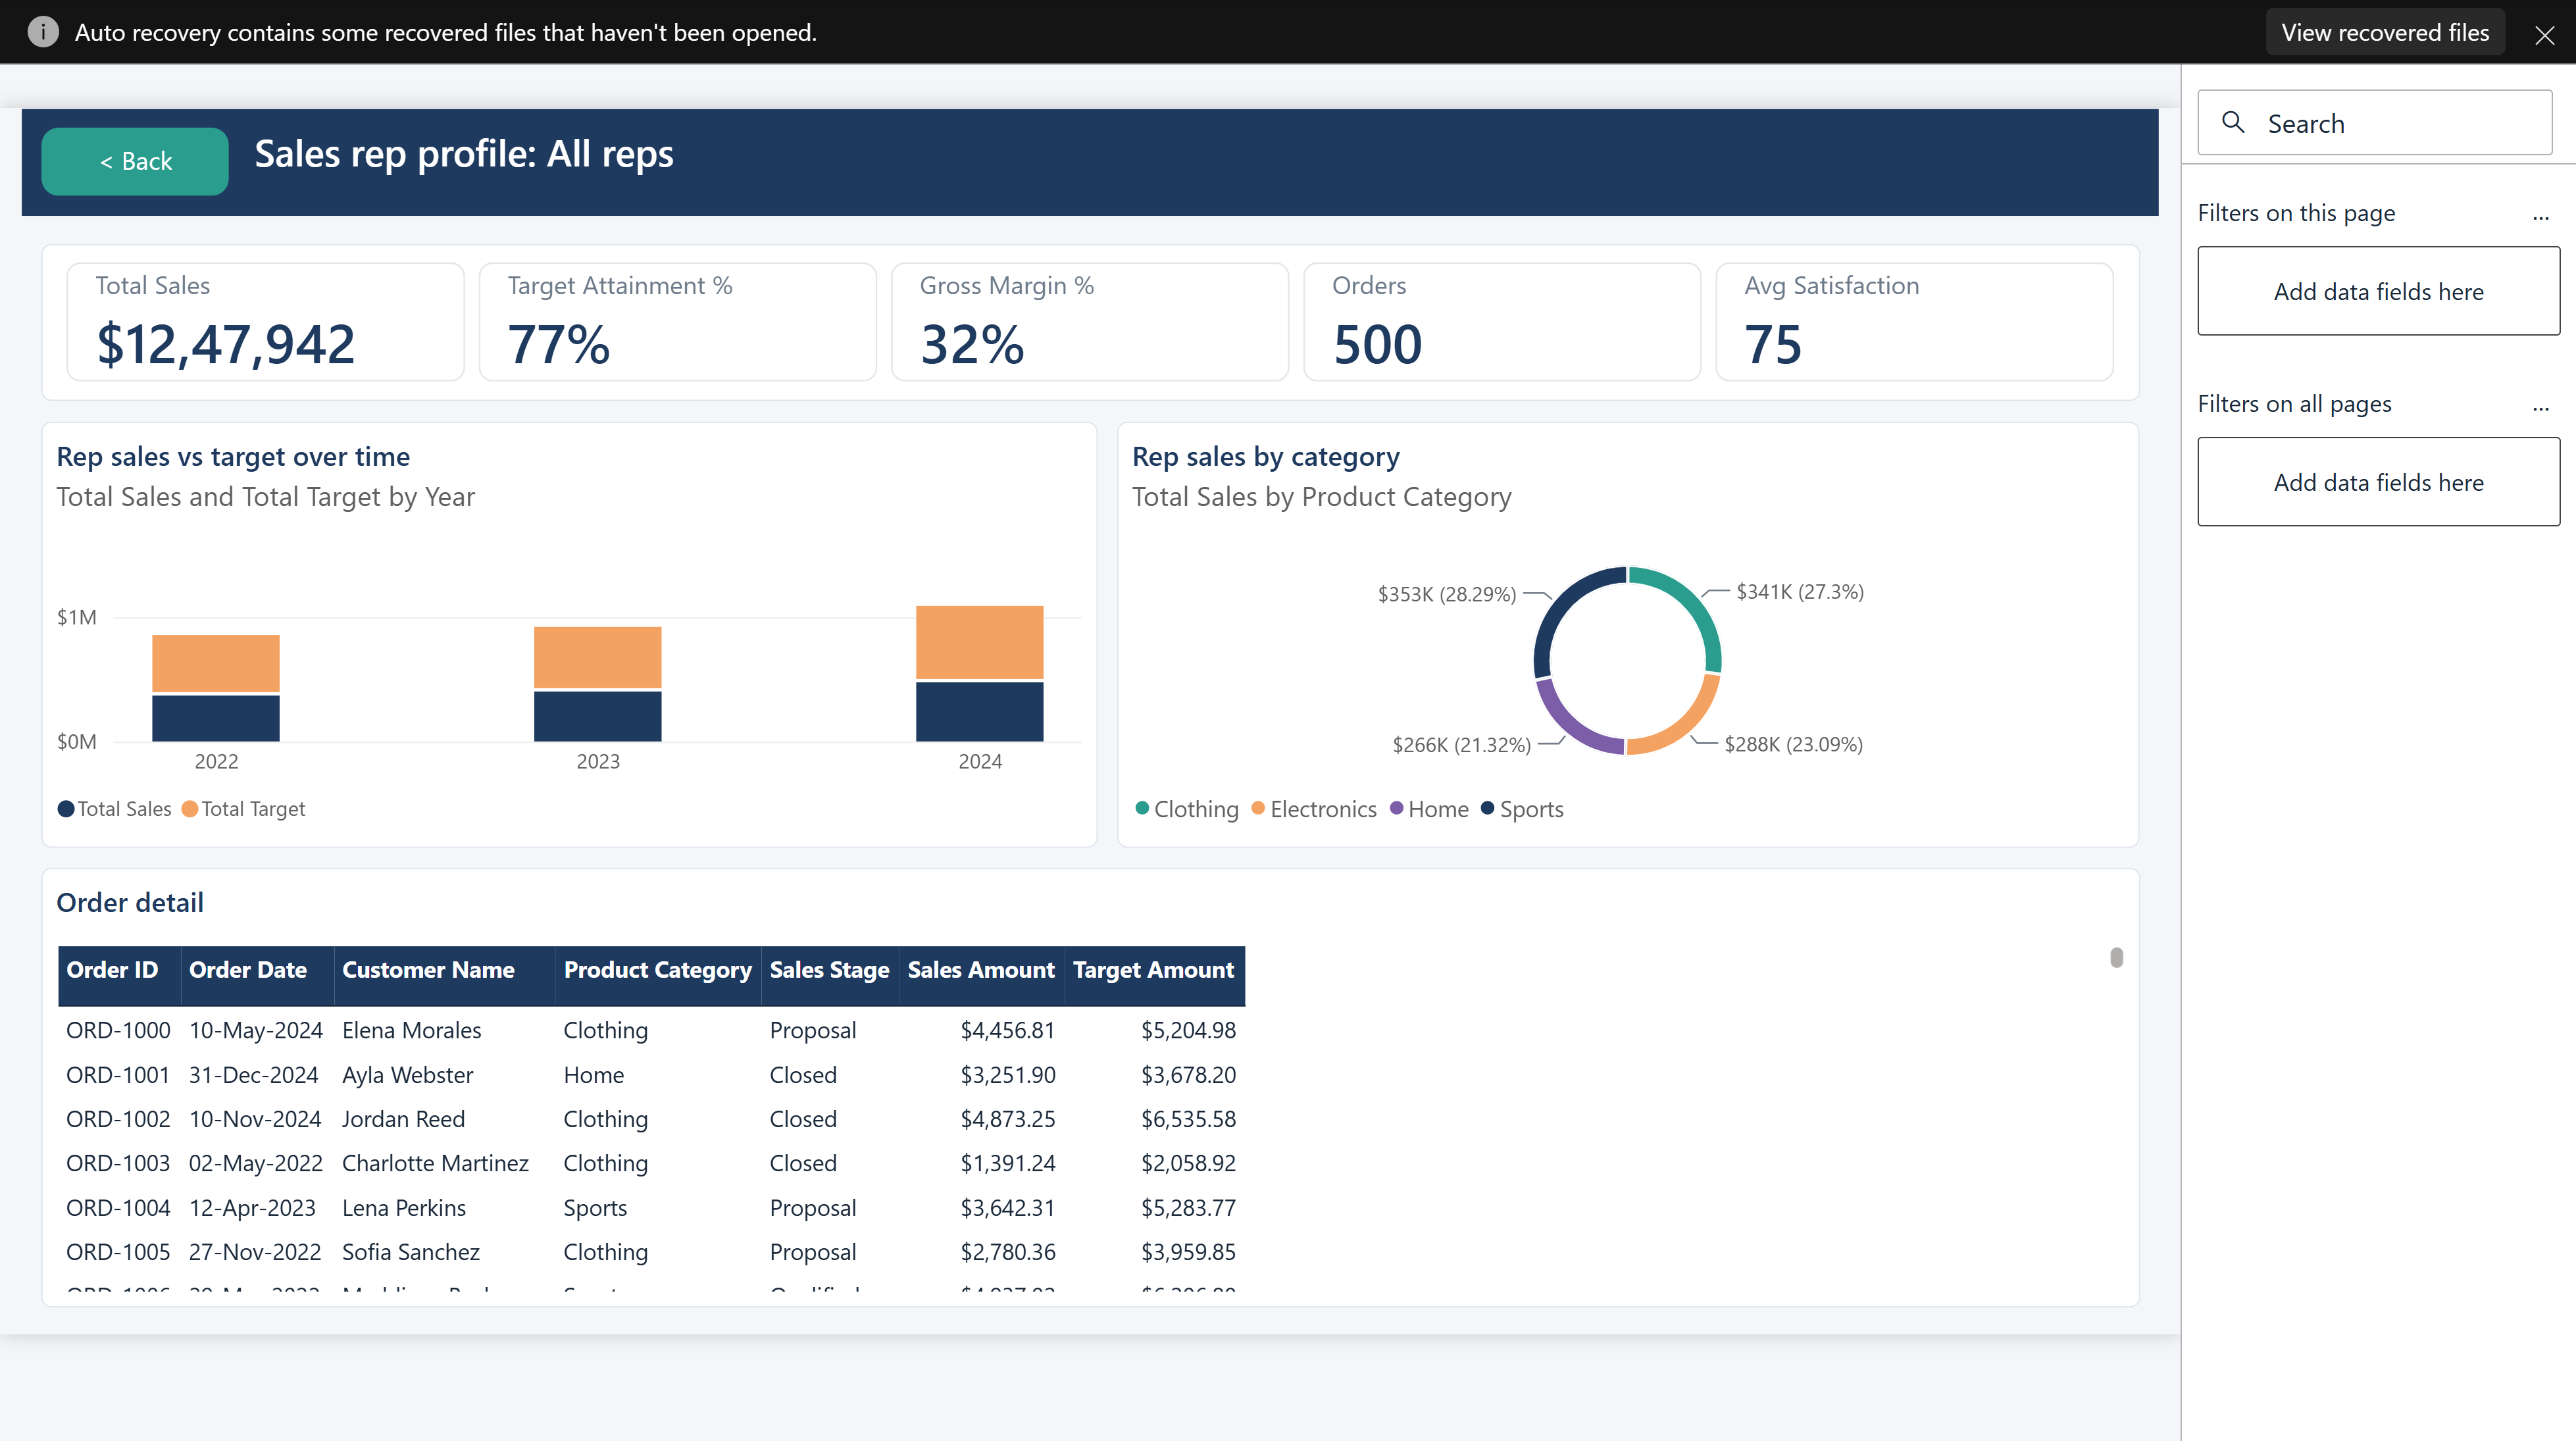

This screenshot's page, from the dashboard's own definition file:
{"tool":"powerbi","page":{"name":"Sales Rep Detail","canvas":[1280,720],"ordinal":5},"visuals":[{"type":"basicShape","box":[0,0,1280,64],"z":1010},{"type":"actionButton","box":[24,12,110,40],"z":1020},{"type":"textbox","box":[150,10,800,44],"z":1030},{"type":"cardVisual","fields":{"Data":["Sales.Total Sales","Sales.Target Attainment %","Sales.Gross Margin %","Sales.Orders","Sales.Avg Satisfaction"]},"box":[24,80,1232,92],"z":1040},{"type":"columnChart","title":"Rep sales vs target over time","fields":{"Category":["Date.Date Hierarchy.Year","Date.Date Hierarchy.Quarter"],"Y":["Sales.Total Sales","Sales.Total Target"]},"box":[24,184,620,250],"z":1050},{"type":"donutChart","title":"Rep sales by category","fields":{"Category":["Sales.Product Category"],"Y":["Sales.Total Sales"]},"box":[656,184,600,250],"z":1060},{"type":"tableEx","title":"Order detail","fields":{"Values":["Sales.Order ID","Sales.Order Date","Sales.Customer Name","Sales.Product Category","Sales.Sales Stage","Sales.Sales Amount","Sales.Target Amount"]},"box":[24,446,1232,258],"z":1070}]}

Visuals, with their boxes on the page's 1280x720 design canvas (x1, y1, x2, y2). These are canvas units, not pixel positions in the 2576x1441 screenshot, which may show the page scaled, cropped or inside an application window:
basicShape: [0,0,1280,64]
actionButton: [24,12,134,52]
textbox: [150,10,950,54]
cardVisual - Sales.Total Sales x Sales.Target Attainment %: [24,80,1256,172]
"Rep sales vs target over time" columnChart: [24,184,644,434]
"Rep sales by category" donutChart: [656,184,1256,434]
"Order detail" tableEx: [24,446,1256,704]
